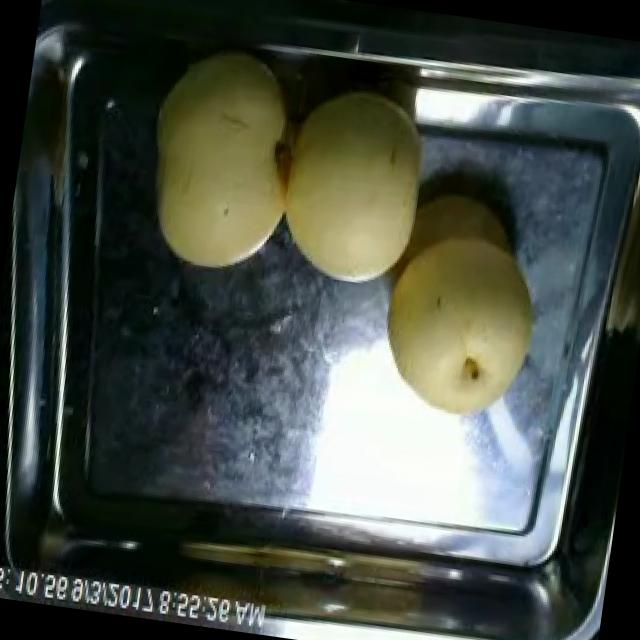Fruit: (360, 175, 566, 443), (124, 27, 308, 286), (272, 74, 444, 304)
